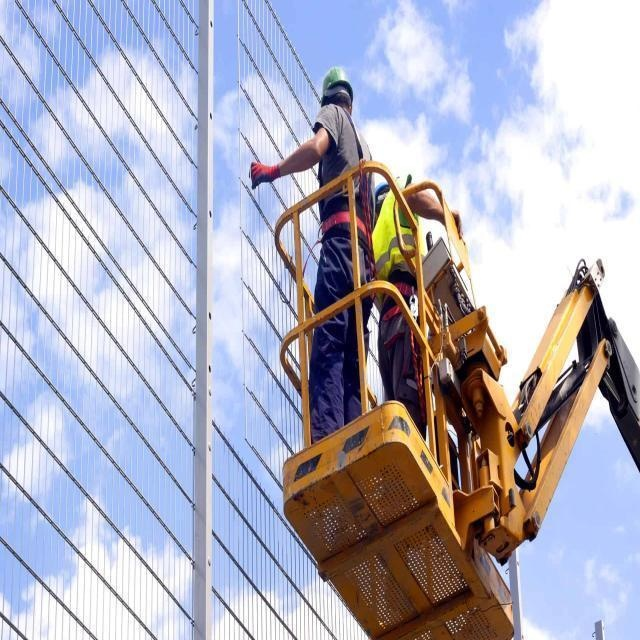Arnes_seguridad: (379, 274, 424, 346), (318, 210, 367, 241)
